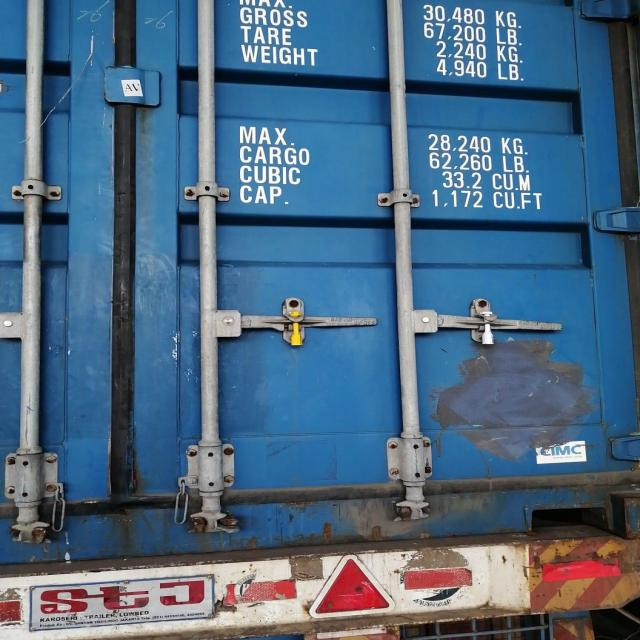seal: (475, 310, 502, 347), (284, 305, 306, 348)
